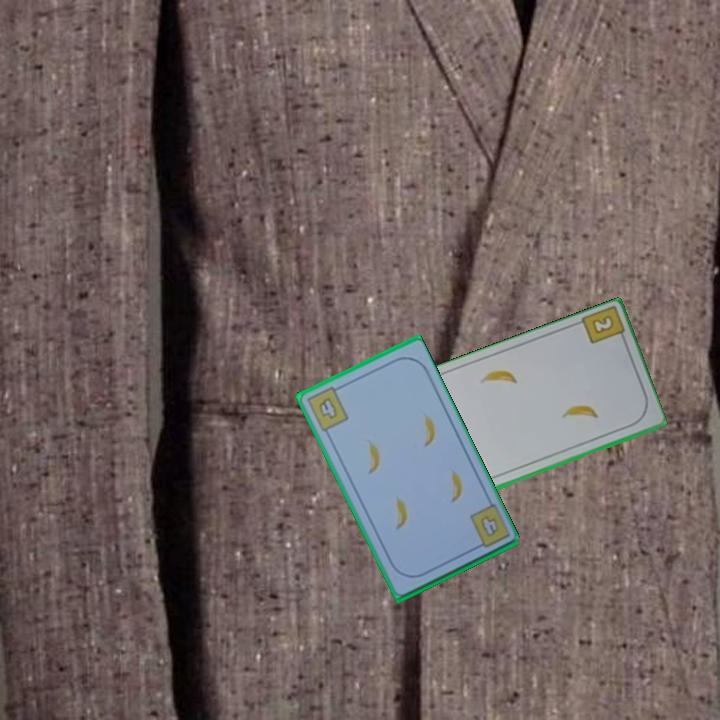2b: (588, 312, 617, 337)
4b: (303, 382, 351, 434), (476, 512, 502, 540)
